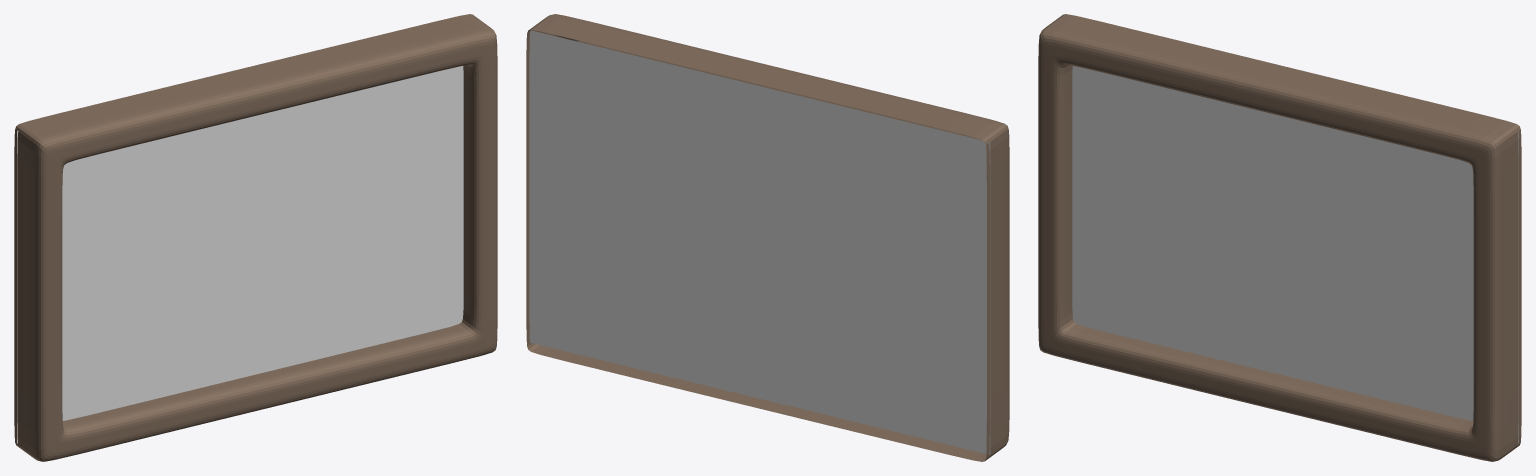
Rendered from Ventana.fbx.
The picture shows the model from 3 angles, left to right: view 1: azimuth 30°, elevation 25°; view 2: azimuth 150°, elevation 25°; view 3: azimuth 330°, elevation 25°; orthographic projection.
Visible parts, largest first — view 1: Cristal.001, Ventana; view 2: Cristal.001, Ventana; view 3: Cristal.001, Ventana.
Boxes of the visible parts, x1,y1,x2,y2 form: Cristal.001: [17, 66, 463, 443]; Ventana: [14, 14, 497, 461]; Cristal.001: [529, 30, 990, 454]; Ventana: [526, 14, 1009, 461]; Cristal.001: [1072, 66, 1518, 443]; Ventana: [1038, 14, 1521, 461].
Bounding box in the file's own units: 20.06 × 13.47 × 1.98.
